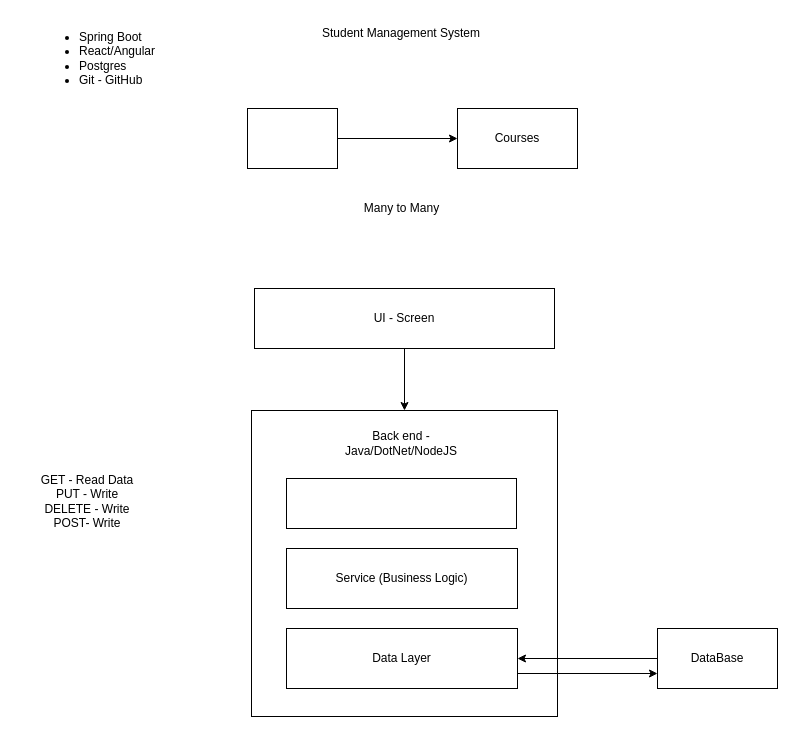
Some shapes in this 795 by 734 pixel diagram are drawn without their labels. The centre of each missing label's shape, as x and y in pixels:
Controller: (x=401, y=503)
Student: (x=292, y=138)
